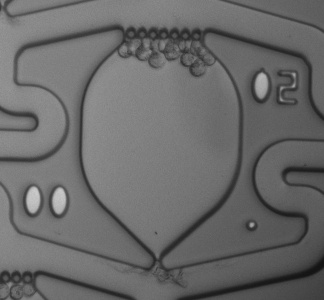AptNum: (245, 64, 305, 112)
Marker: (241, 214, 263, 235)
StNum: (16, 176, 80, 227)
Trap: (135, 257, 191, 300)
